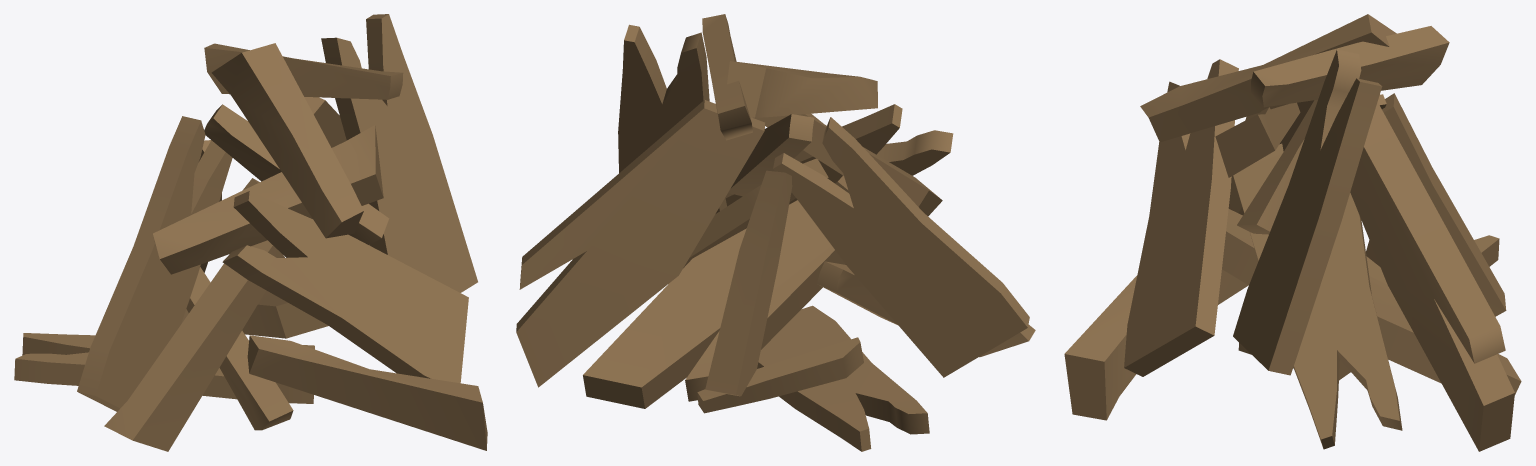
Rendered from kucha_big_Lv0.fbx.
The picture shows the model from 3 angles, left to right: view 1: azimuth 30°, elevation 25°; view 2: azimuth 150°, elevation 25°; view 3: azimuth 270°, elevation 25°; orthographic projection. The views are drawn at different scales.
Parts seen in each view (by area): view 1: kucha_big_low; view 2: kucha_big_low; view 3: kucha_big_low.
Part boxes in pixels (left/top/right/bottom): kucha_big_low: left=14, top=14, right=487, bottom=451; kucha_big_low: left=516, top=14, right=1035, bottom=451; kucha_big_low: left=1064, top=14, right=1521, bottom=451.
Bounding box in the file's own units: 75.01 × 56.67 × 66.73.
